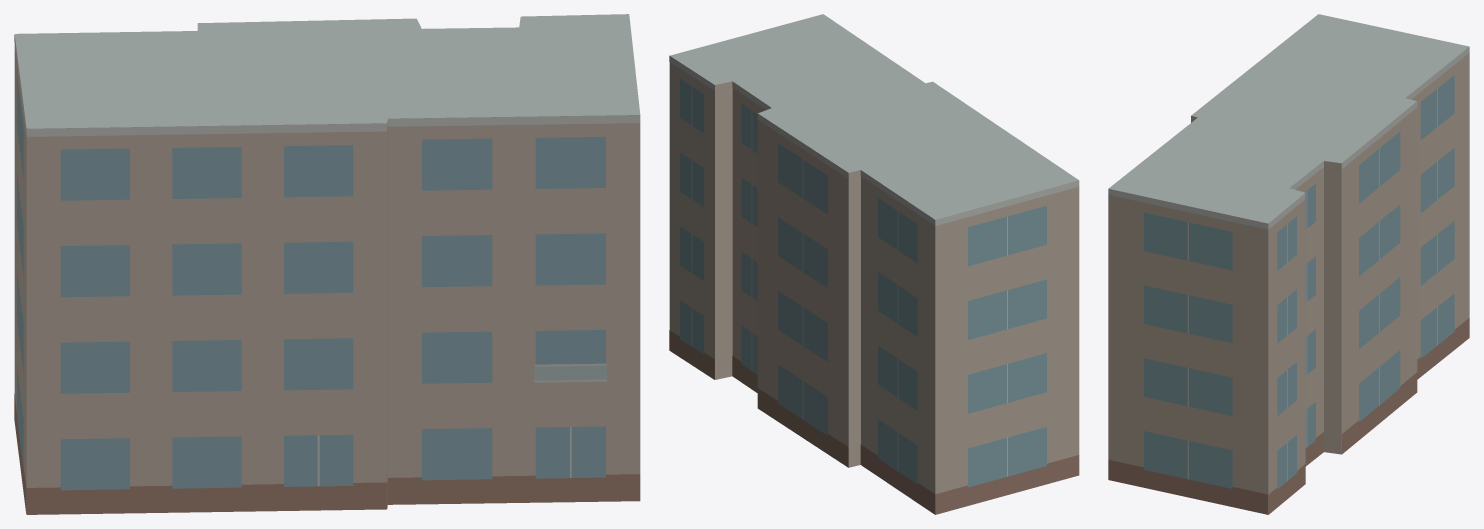
The model's file is survey-upis-32672323.glb.
3 views of the same model, side by side, from view 1: azimuth 30°, elevation 25°; view 2: azimuth 150°, elevation 25°; view 3: azimuth 270°, elevation 25° (orthographic). The views are drawn at different scales.
Parts seen in each view (by area): view 1: survey-upis-32672323.tmp; view 2: survey-upis-32672323.tmp; view 3: survey-upis-32672323.tmp.
Boxes of the visible parts, x1,y1,x2,y2 form: survey-upis-32672323.tmp: (14,14,640,514); survey-upis-32672323.tmp: (669,14,1079,514); survey-upis-32672323.tmp: (1108,14,1469,514).
Size of the model in its own units: 17.92 by 11.6 by 13.05.
